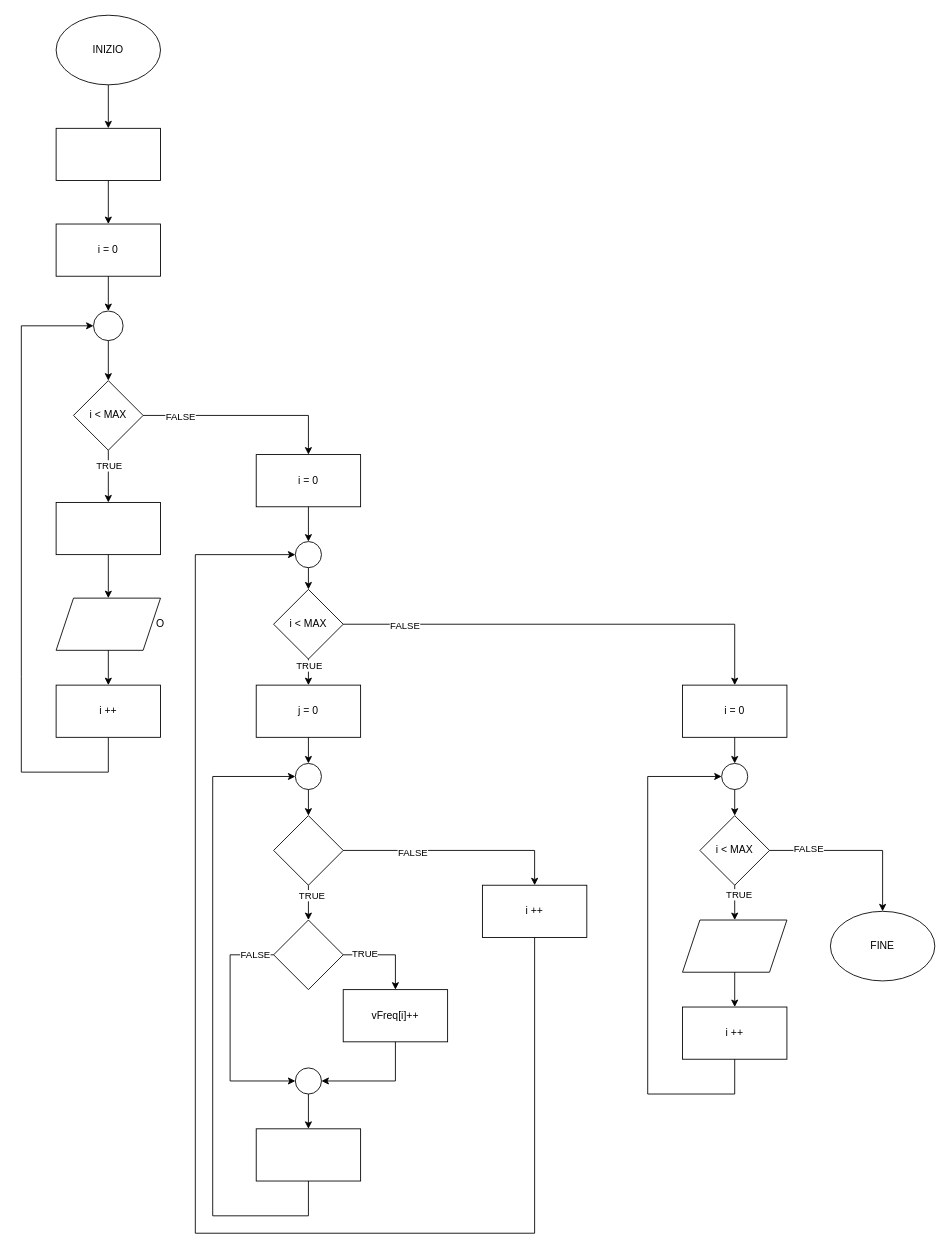
Image size: 950x1255. Some labels were removed from this diagram. Here are the shapes that lost their labels. From the top down, the box of each, then its label:
(55, 127, 161, 181): MAX = 10 vGen[MAX] = {0] vFreq[MAX] = {0}
(55, 502, 161, 555): vGen[i] = genero num casuale da 0 a 9
(55, 597, 161, 650): scrivi vGen[i]
(273, 815, 343, 885): j < MAX
(273, 919, 343, 990): vGen[i] == vGen[j]
(682, 919, 787, 972): scrivi vFreq[i]
(255, 1128, 361, 1181): j ++
